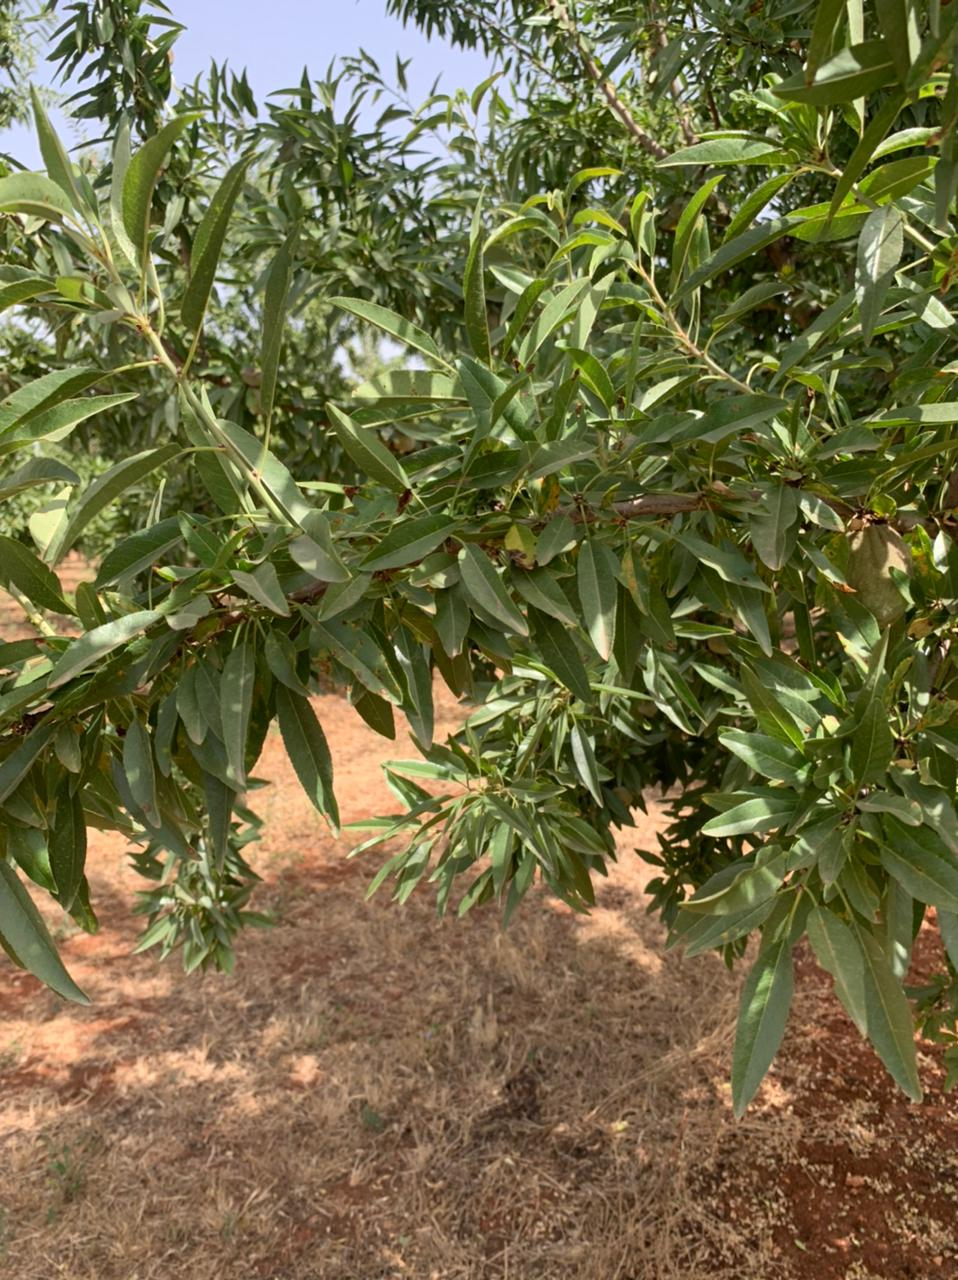polystigma: (298, 603, 405, 708), (618, 548, 656, 613), (505, 523, 537, 572), (538, 475, 560, 522)
